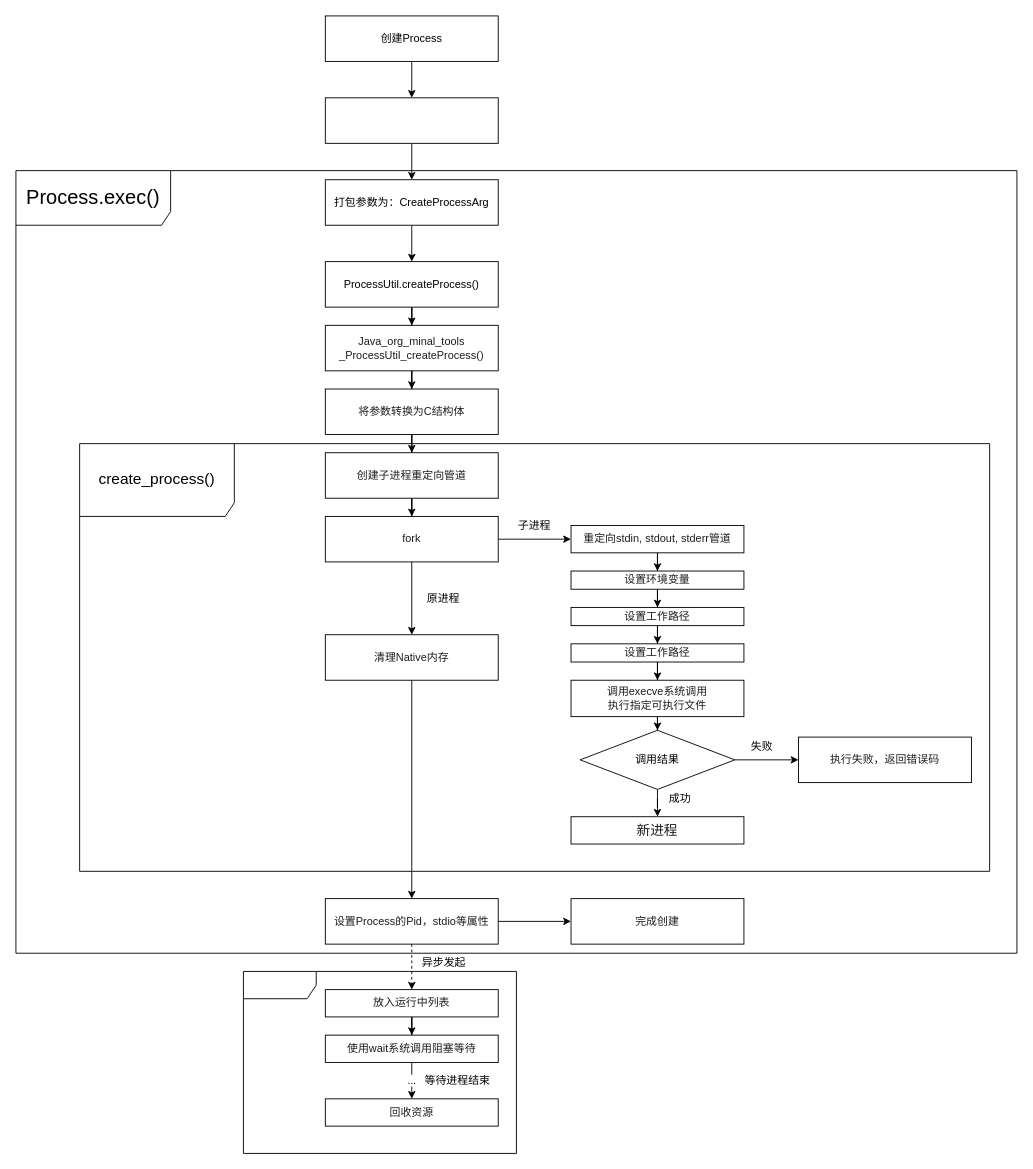
Image size: 1033x1169. Some labels were removed from this diagram. Here are the shapes that lost their labels. From the top down, the centre of each, then its label:
(x=411, y=120): 设置执行参数： path，argv，env，wd
(x=379, y=1062): 进程守护线程
